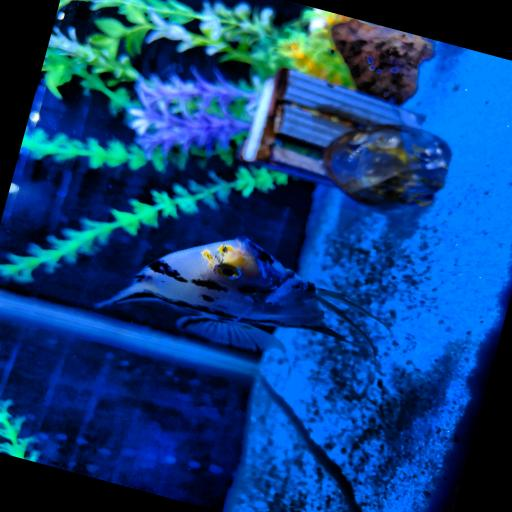Fish: (97, 237, 379, 351)
